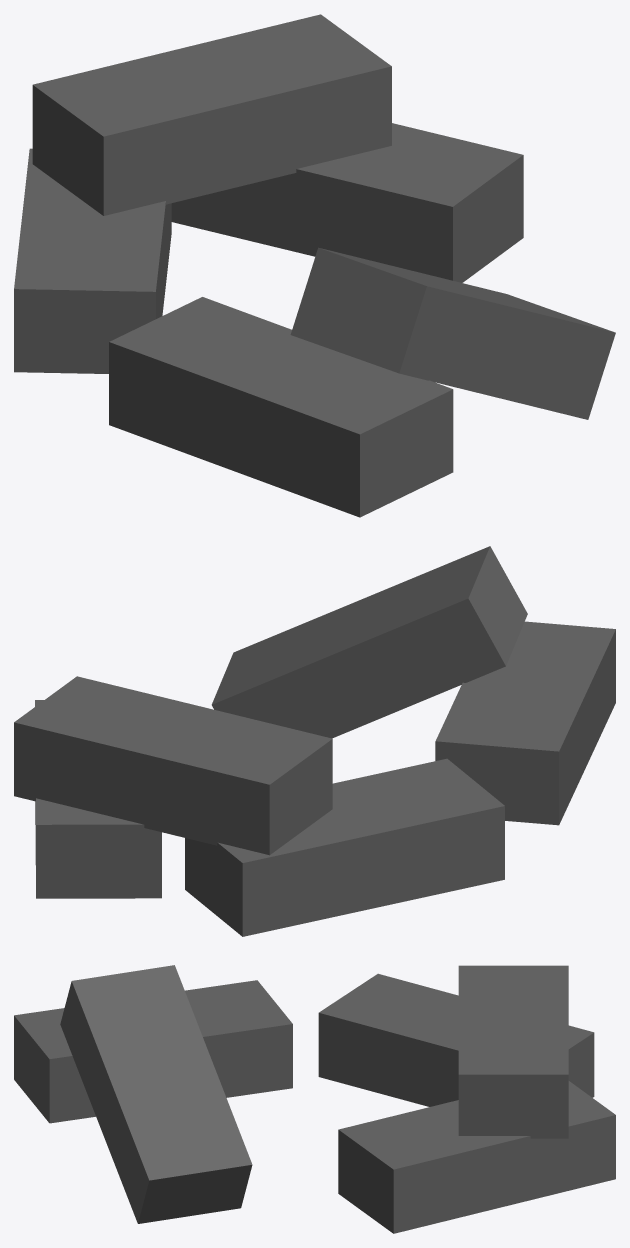
File: ColoredLooseBricks 1.fbx
The picture shows the model from 3 angles, top to bottom: view 1: azimuth 30°, elevation 25°; view 2: azimuth 150°, elevation 25°; view 3: azimuth 270°, elevation 25°; orthographic projection. The views are drawn at different scales.
Parts seen in each view (by area): view 1: Cube.004; view 2: Cube.004; view 3: Cube.004.
Part boxes in pixels (<box>): Cube.004: <box>14,14,615,517</box>; Cube.004: <box>14,546,615,936</box>; Cube.004: <box>14,965,615,1233</box>.
Bounding box in the file's own units: 34.77 × 13.75 × 45.14.
